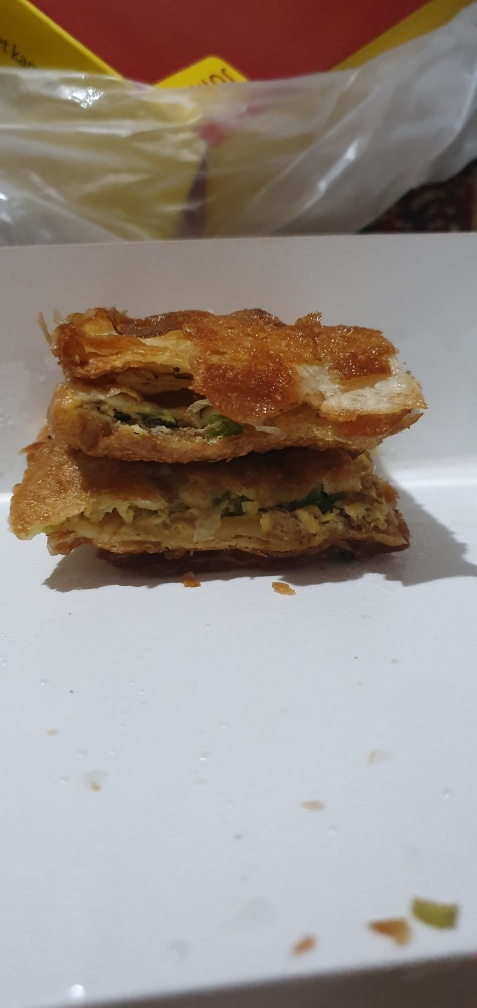martabak telor: (42, 296, 414, 454), (17, 440, 430, 570)
